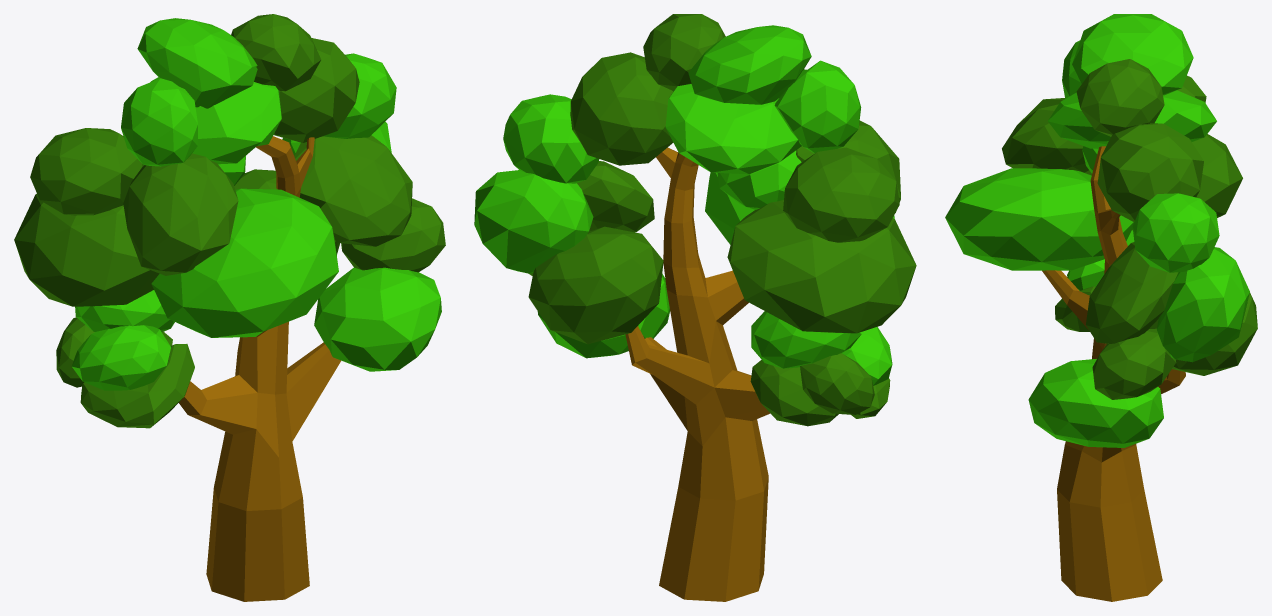
Rendered from Oak_Tree.obj.
The picture shows the model from 3 angles, left to right: view 1: azimuth 30°, elevation 25°; view 2: azimuth 150°, elevation 25°; view 3: azimuth 270°, elevation 25°; orthographic projection. The views are drawn at different scales.
Parts seen in each view (by area): view 1: Oak_Cylinder.004; view 2: Oak_Cylinder.004; view 3: Oak_Cylinder.004.
Boxes of the visible parts, x1=… form: Oak_Cylinder.004: x1=14, y1=14, x2=445, y2=601; Oak_Cylinder.004: x1=474, y1=14, x2=916, y2=601; Oak_Cylinder.004: x1=945, y1=14, x2=1257, y2=601.
Bounding box in the file's own units: 3.96 × 5.31 × 2.84.
